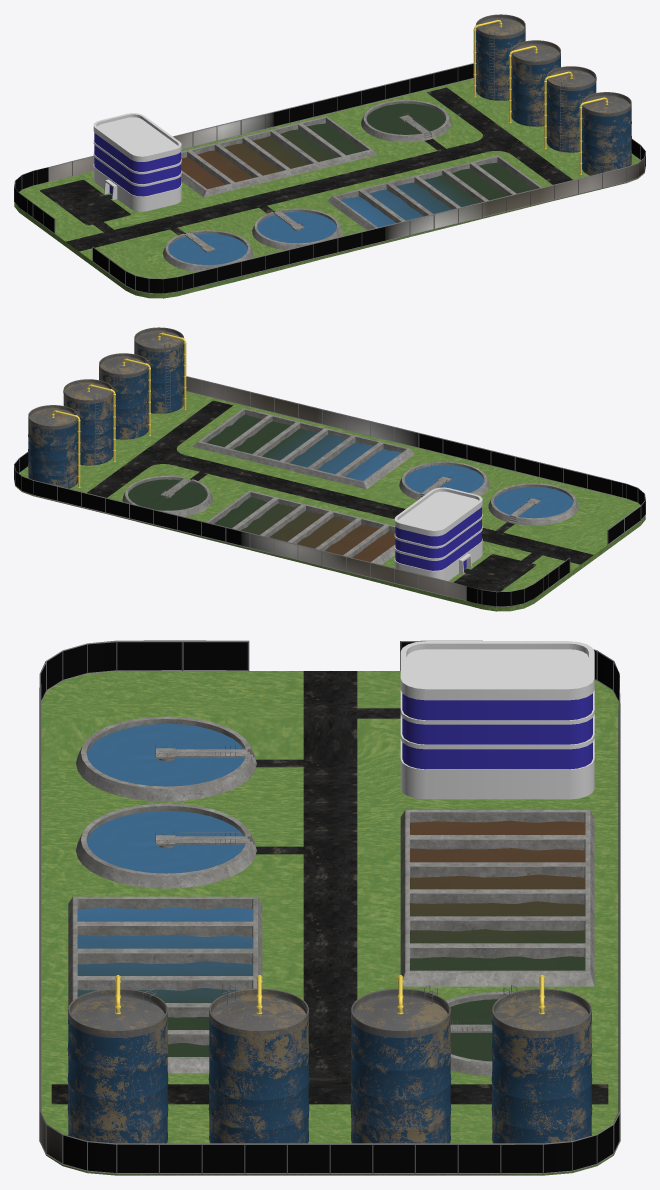
3 renders of one model, top to bottom at view 1: azimuth 30°, elevation 25°; view 2: azimuth 150°, elevation 25°; view 3: azimuth 270°, elevation 25°, orthographic. The views are drawn at different scales.
Visible parts, largest first — view 1: Ground, Fence.001, Silos, Building, Water_Filtration_Square, Water_Filtration_Square_Water, Water_Filtration_Square_Water.001, Water_Filtration_Square.001, Water_Basin_Round_Water.001, Water_Basin_Round_Water.002, Water_Basin_Round_Water, Water_Basin_Round (+4 smaller); view 2: Ground, Fence.001, Silos, Building, Water_Filtration_Square.001, Water_Filtration_Square_Water.001, Water_Filtration_Square_Water, Water_Filtration_Square, Water_Basin_Round_Water, Water_Basin_Round_Water.002, Water_Basin_Round_Water.001, Water_Basin_Round.002 (+4 smaller); view 3: Ground, Silos, Building, Fence.001, Water_Filtration_Square, Water_Filtration_Square_Water, Water_Filtration_Square.001, Water_Filtration_Square_Water.001, Water_Basin_Round_Water.001, Water_Basin_Round_Water.002, Water_Basin_Round.002, Water_Basin_Round.001 (+2 smaller).
Boxes of the visible parts, x1,y1,x2,y2 form: Ground: (14, 78, 644, 298); Fence.001: (14, 63, 645, 293); Silos: (475, 14, 631, 175); Building: (93, 113, 181, 211); Water_Filtration_Square: (181, 116, 377, 197); Water_Filtration_Square_Water: (181, 123, 363, 189); Water_Filtration_Square_Water.001: (341, 162, 534, 227); Water_Filtration_Square.001: (327, 155, 541, 230); Water_Basin_Round_Water.001: (257, 212, 336, 243); Water_Basin_Round_Water.002: (168, 233, 247, 264); Water_Basin_Round_Water: (366, 103, 445, 134); Water_Basin_Round: (361, 100, 451, 142); Ground: (15, 391, 645, 611); Fence.001: (14, 376, 645, 606); Silos: (28, 327, 184, 488); Building: (394, 487, 482, 580); Water_Filtration_Square.001: (193, 408, 414, 489); Water_Filtration_Square_Water.001: (206, 414, 401, 480); Water_Filtration_Square_Water: (214, 497, 395, 561); Water_Filtration_Square: (206, 490, 395, 564); Water_Basin_Round_Water: (128, 479, 207, 510); Water_Basin_Round_Water.002: (494, 487, 573, 518); Water_Basin_Round_Water.001: (404, 465, 484, 492); Water_Basin_Round.002: (488, 483, 578, 525); Ground: (41, 671, 618, 1175); Silos: (67, 988, 592, 1143); Building: (400, 641, 594, 799); Fence.001: (39, 640, 620, 1174); Water_Filtration_Square: (400, 810, 594, 986); Water_Filtration_Square_Water: (410, 820, 584, 970); Water_Filtration_Square.001: (68, 896, 262, 1073); Water_Filtration_Square_Water.001: (77, 907, 252, 1056); Water_Basin_Round_Water.001: (87, 811, 244, 873); Water_Basin_Round_Water.002: (87, 724, 244, 786); Water_Basin_Round.002: (76, 716, 256, 801); Water_Basin_Round.001: (76, 803, 256, 888).
Bounding box in the file's own units: 2661 × 388 × 1299.
